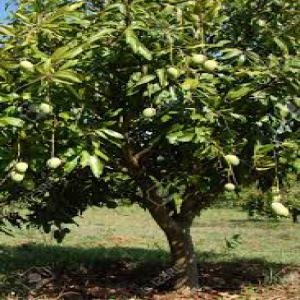Tree: (2, 1, 298, 289)
